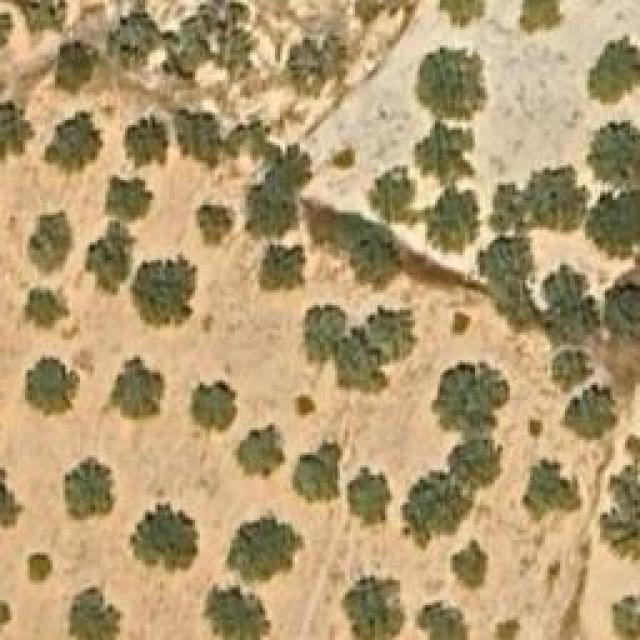Tree: (480, 238, 540, 331), (228, 510, 301, 580), (130, 500, 198, 570), (417, 50, 485, 120), (433, 360, 498, 433), (343, 572, 406, 640), (403, 470, 466, 538), (288, 30, 353, 95), (83, 220, 138, 293), (520, 460, 583, 523), (202, 587, 272, 640), (45, 113, 103, 176), (135, 260, 193, 323), (587, 35, 640, 102), (533, 165, 586, 230), (587, 122, 640, 187), (587, 190, 635, 260), (25, 358, 80, 418), (245, 180, 298, 240), (62, 587, 119, 640), (365, 303, 416, 362), (113, 358, 163, 418), (335, 337, 387, 394), (565, 385, 618, 440), (233, 425, 286, 480), (113, 15, 166, 70), (415, 125, 468, 178), (65, 460, 113, 518), (430, 192, 478, 250), (55, 43, 110, 93), (292, 445, 340, 500), (373, 167, 418, 225), (28, 213, 71, 273), (348, 465, 391, 525), (348, 240, 398, 288), (305, 302, 344, 362), (257, 245, 305, 293), (125, 115, 168, 168), (488, 185, 531, 238), (193, 380, 238, 430), (175, 113, 220, 163), (450, 435, 500, 480), (417, 602, 475, 640), (102, 173, 150, 218), (0, 103, 38, 158), (605, 287, 640, 345), (453, 538, 488, 591), (550, 350, 593, 393), (25, 290, 68, 328), (610, 592, 640, 640), (198, 205, 233, 243), (520, 0, 560, 32), (0, 470, 20, 525), (440, 0, 483, 25), (28, 553, 53, 583), (295, 394, 319, 422), (528, 418, 543, 441)
